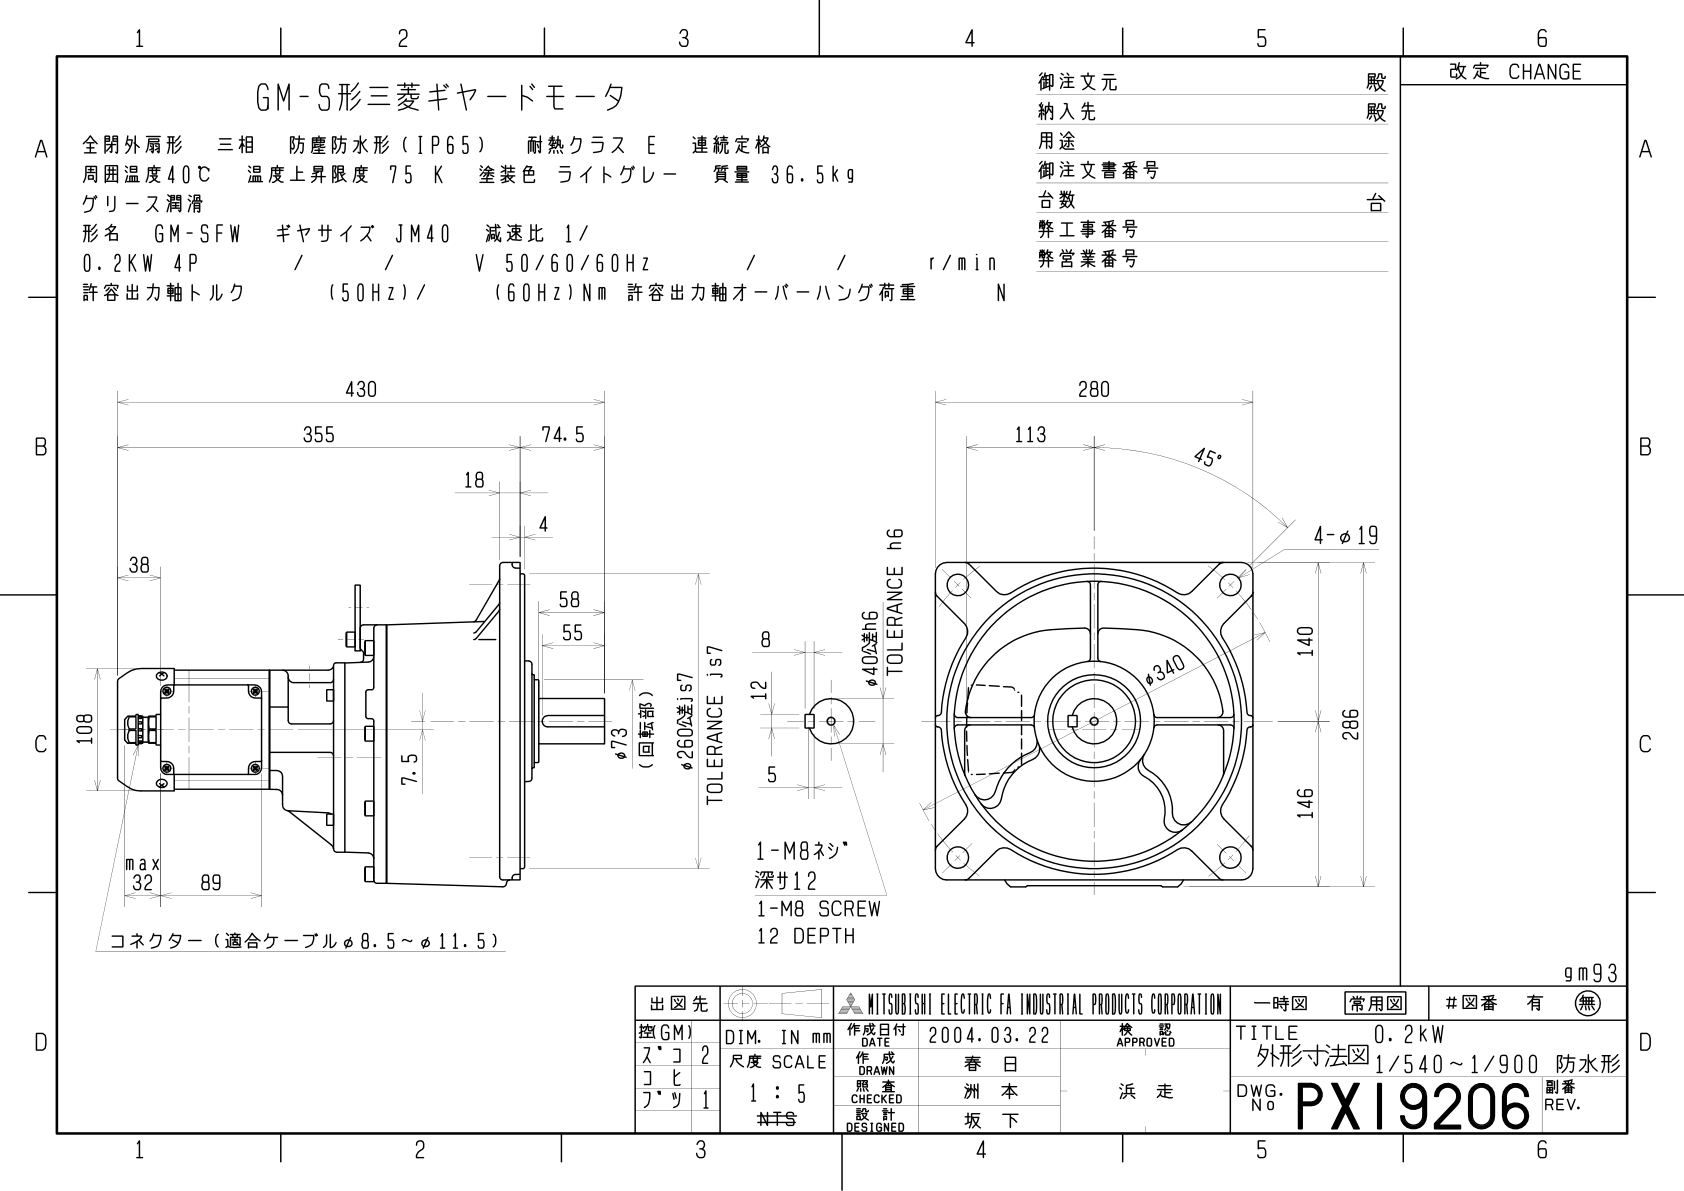GM_S_IP65＿三相_フランジ: (1, 6, 1669, 1172)
